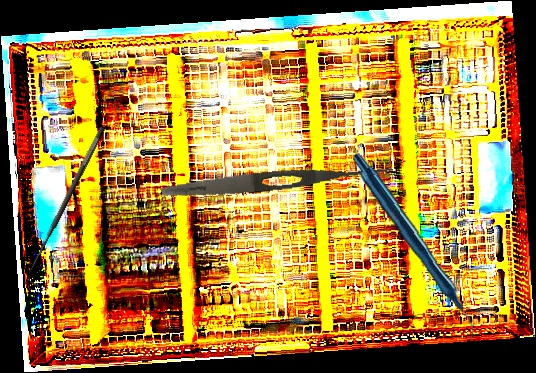Dressing Forceps: (160, 157, 394, 203)
Handpiece: (346, 152, 481, 342)
Hook Surgical: (19, 125, 118, 290)
